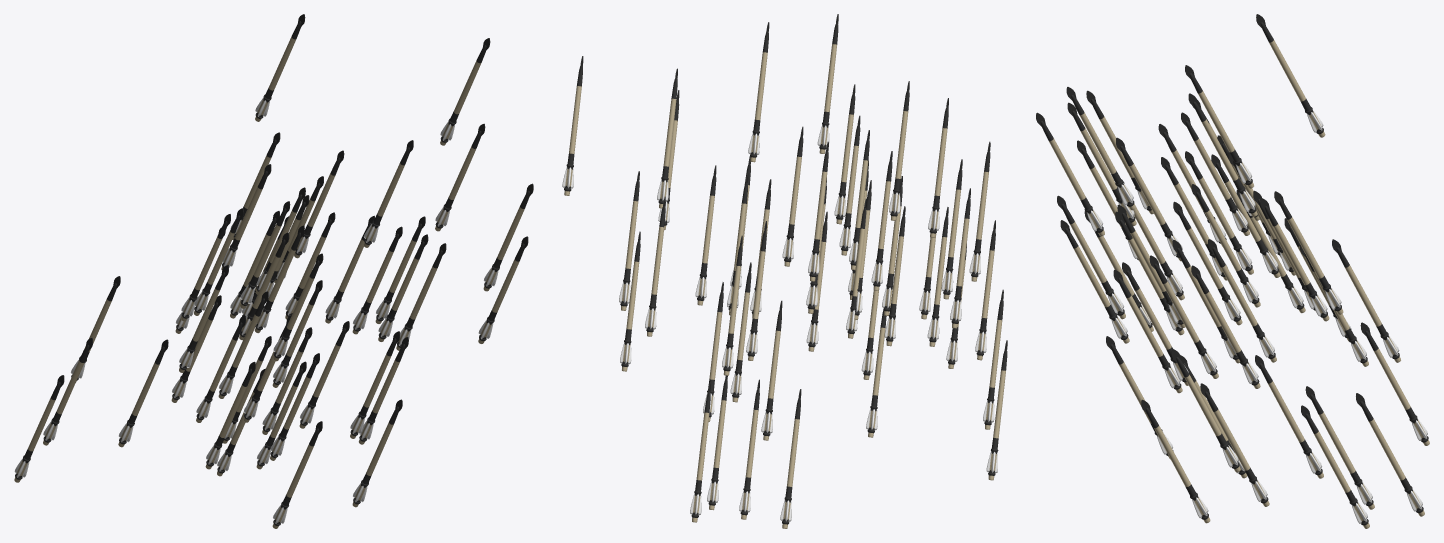
The picture shows the model from 3 angles, left to right: view 1: azimuth 30°, elevation 25°; view 2: azimuth 150°, elevation 25°; view 3: azimuth 270°, elevation 25°; orthographic projection. The views are drawn at different scales.
Visible parts, largest first — view 1: A2; view 2: A2; view 3: A2.
Boxes of the visible parts, bbox=[...] form: A2: bbox=[14, 14, 533, 528]; A2: bbox=[562, 14, 1007, 528]; A2: bbox=[1036, 14, 1429, 528].
Bounding box in the file's own units: 1.27 × 1.3 × 0.9115.
